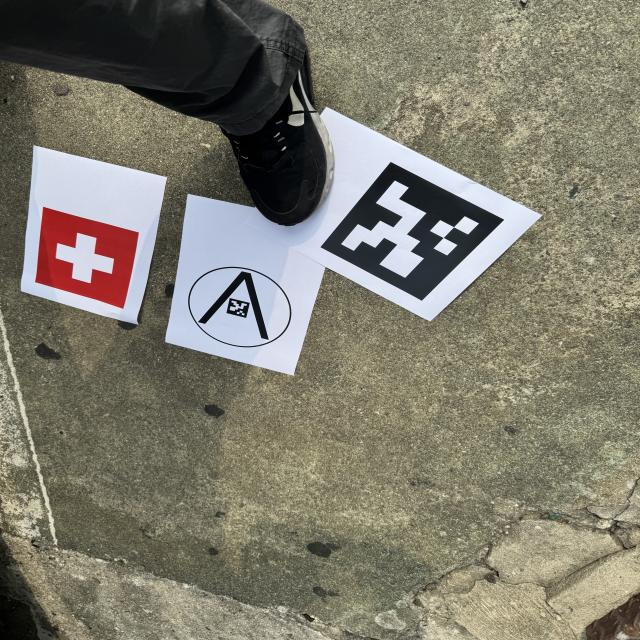ArUro mark: (307, 151, 518, 309)
rescue point: (25, 202, 149, 314)
vertiport: (183, 261, 300, 354)
